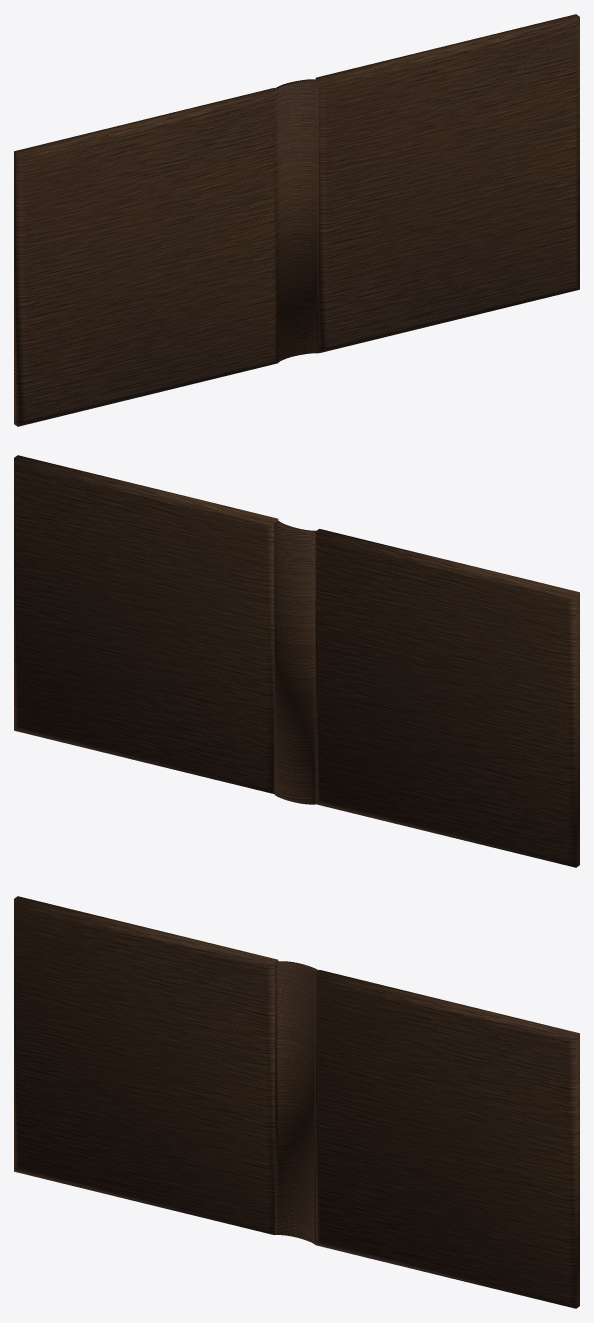
Rendered from table.obj.
3 views of the same model, one above another, from view 1: azimuth 30°, elevation 25°; view 2: azimuth 150°, elevation 25°; view 3: azimuth 330°, elevation 25° (orthographic).
Parts seen in each view (by area): view 1: Cube_Cube.001, BezierCurve_Mesh; view 2: Cube_Cube.001, BezierCurve_Mesh; view 3: Cube_Cube.001, BezierCurve_Mesh.
Boxes of the visible parts, bbox=[...] form: Cube_Cube.001: bbox=[14, 14, 579, 426]; BezierCurve_Mesh: bbox=[275, 79, 318, 362]; Cube_Cube.001: bbox=[14, 455, 579, 867]; BezierCurve_Mesh: bbox=[274, 521, 315, 804]; Cube_Cube.001: bbox=[14, 896, 579, 1308]; BezierCurve_Mesh: bbox=[275, 961, 318, 1244].
Size of the model in its own units: 4.54 by 2.1 by 0.127.
